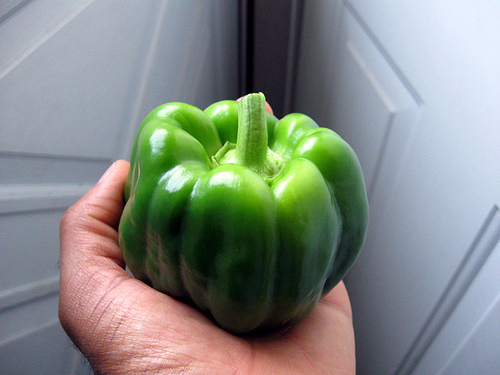capsicum: (119, 92, 367, 341)
